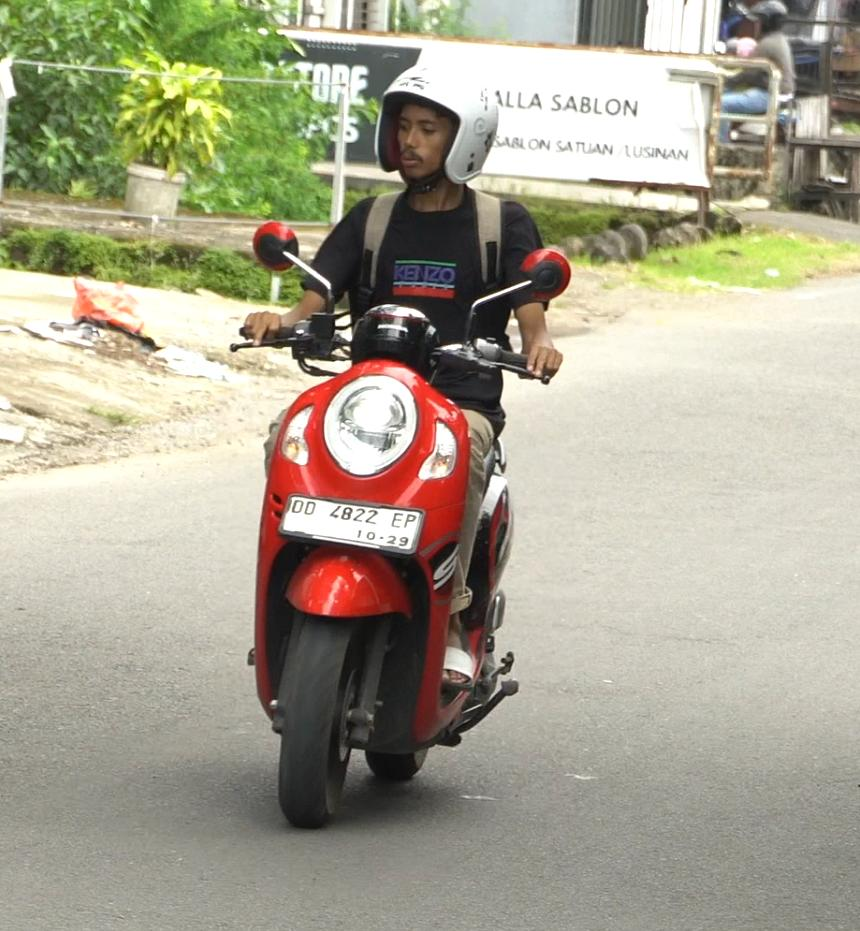number-plate: (277, 487, 422, 555)
